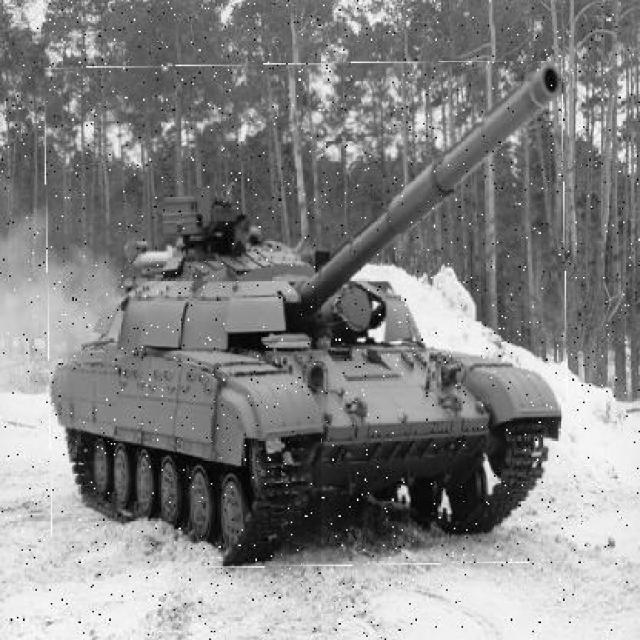Tank: (49, 64, 569, 569)
